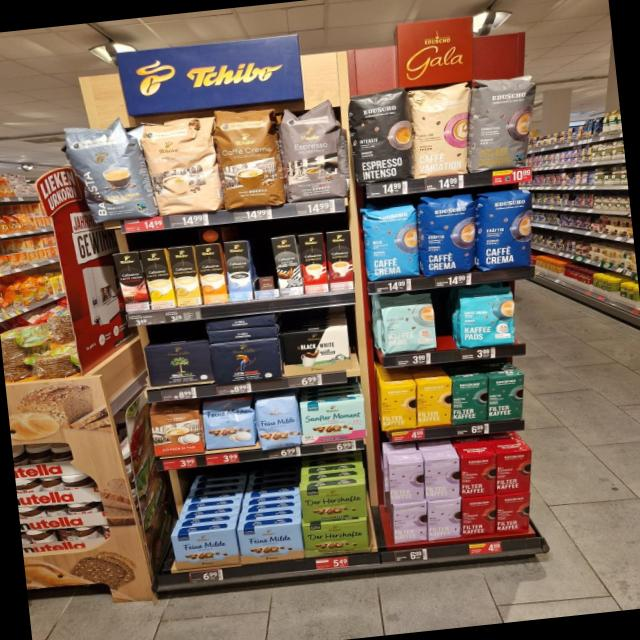BM Gemahlen: (143, 338, 215, 389)
BW Gemahlen: (280, 326, 354, 368)
Barista CC: (58, 113, 156, 226)
CC Mild: (139, 112, 223, 218)
CC Vollmundig: (149, 399, 204, 458)
CC Vollmundig 36 Pads: (212, 100, 286, 210)
Empty Shelf: (249, 238, 278, 290)
Espresso Aromatisch: (277, 100, 350, 202)
FM 36 Pads: (200, 394, 258, 452)
FM Bohne: (253, 394, 302, 451)
FM Gemahlen: (170, 527, 240, 571), (236, 522, 304, 564)
Herzhatfe Mundig: (298, 482, 369, 524), (302, 516, 370, 559)
LG Gemahlen: (210, 336, 284, 386)
SM Gemahlen: (300, 395, 368, 444)
Simo CC Colombia: (114, 251, 150, 311)
Simo CCMild bigpack: (139, 249, 176, 309)
Simo CCVollmundig bigpack: (194, 242, 228, 305)
Simo Decaff: (168, 246, 201, 306)
Simo Es Brazil: (297, 232, 329, 294)
Simo Es Caramel: (326, 230, 354, 290)
Simo Es Vanilla: (224, 240, 252, 302)
